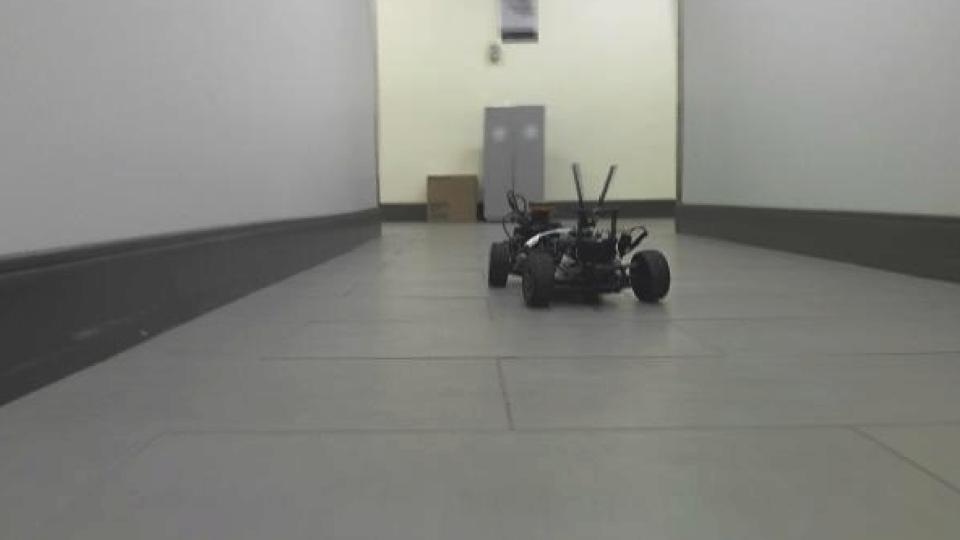car: (485, 159, 674, 311)
